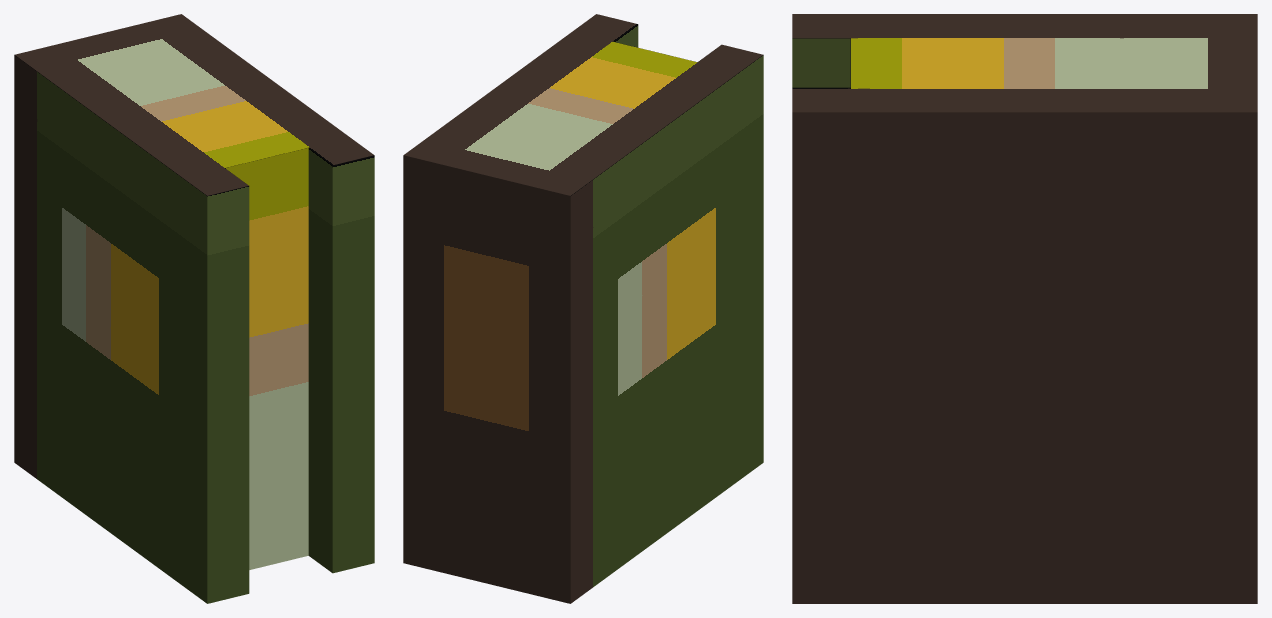
The model's file is book_0x282_11.glb.
3 views of the same model, side by side, from view 1: azimuth 30°, elevation 25°; view 2: azimuth 150°, elevation 25°; view 3: azimuth 270°, elevation 25° (orthographic). The views are drawn at different scales.
Visible parts, largest first — view 1: Cube; view 2: Cube; view 3: Cube.
Part boxes in pixels (box(x1,y1,x2,y2)): Cube: box(14, 14, 374, 603); Cube: box(403, 14, 763, 603); Cube: box(792, 14, 1257, 603).
Size of the model in its own units: 0.25 by 0.5833 by 0.5.
1 material, 1 textured.
